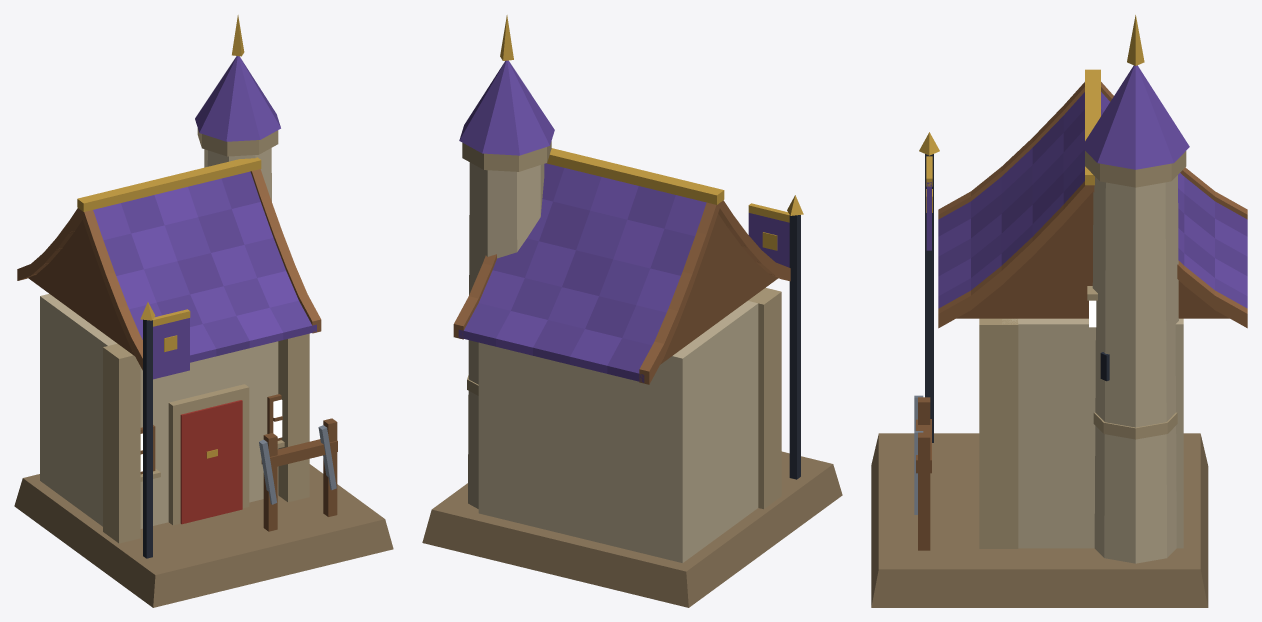
File: camp_sniper_t1.glb
3 renders of one model, left to right at view 1: azimuth 30°, elevation 25°; view 2: azimuth 150°, elevation 25°; view 3: azimuth 270°, elevation 25°, orthographic. The views are drawn at different scales.
Visible parts, largest first — view 1: body; view 2: body; view 3: body.
Part boxes in pixels (x1=…): body: x1=14, y1=15, x2=393, y2=607; body: x1=422, y1=15, x2=842, y2=607; body: x1=871, y1=15, x2=1247, y2=607.
Bounding box in the file's own units: 1.9 × 3.51 × 2.12.
